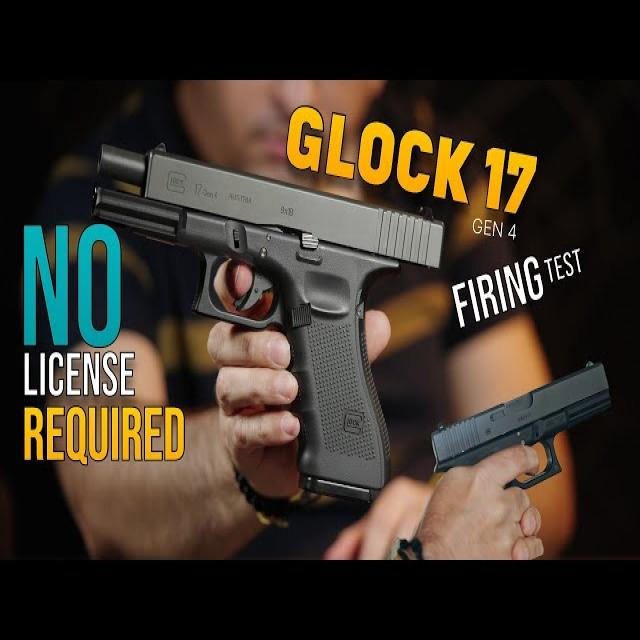HandGun: (94, 145, 448, 504), (432, 363, 613, 491)
